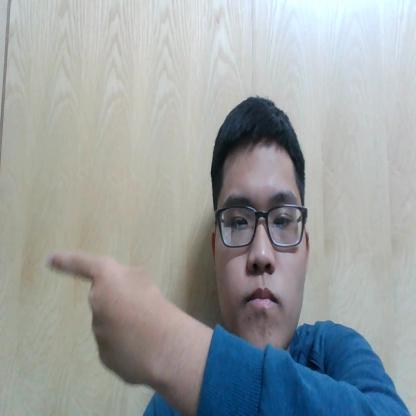right: (37, 232, 167, 401)
